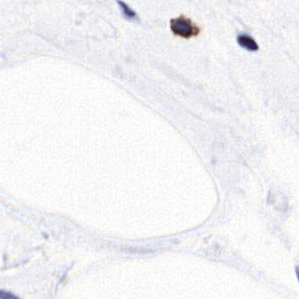Lymphocyte: (167, 15, 200, 39)
